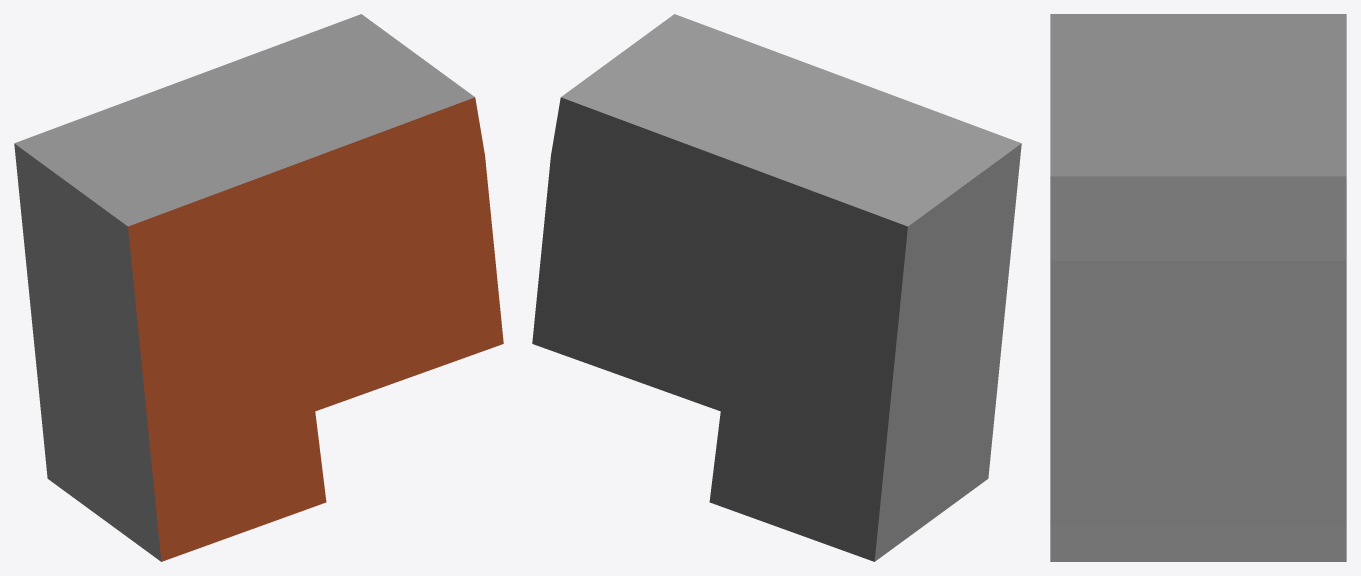
Rendered from construction_7129_assumed_A_Estacao_em_caminho_de_ferro_h6m.obj.
The picture shows the model from 3 angles, left to right: view 1: azimuth 30°, elevation 25°; view 2: azimuth 150°, elevation 25°; view 3: azimuth 270°, elevation 25°; orthographic projection. The views are drawn at different scales.
Parts seen in each view (by area): view 1: construction_7129_assumed_A_Estacao_em_caminho_de_ferro; view 2: construction_7129_assumed_A_Estacao_em_caminho_de_ferro; view 3: construction_7129_assumed_A_Estacao_em_caminho_de_ferro.
Part boxes in pixels (x1=…): construction_7129_assumed_A_Estacao_em_caminho_de_ferro: x1=14, y1=14, x2=503, y2=561; construction_7129_assumed_A_Estacao_em_caminho_de_ferro: x1=532, y1=14, x2=1021, y2=561; construction_7129_assumed_A_Estacao_em_caminho_de_ferro: x1=1050, y1=14, x2=1346, y2=561.
Size of the model in its own units: 11.44 by 11.29 by 6.
